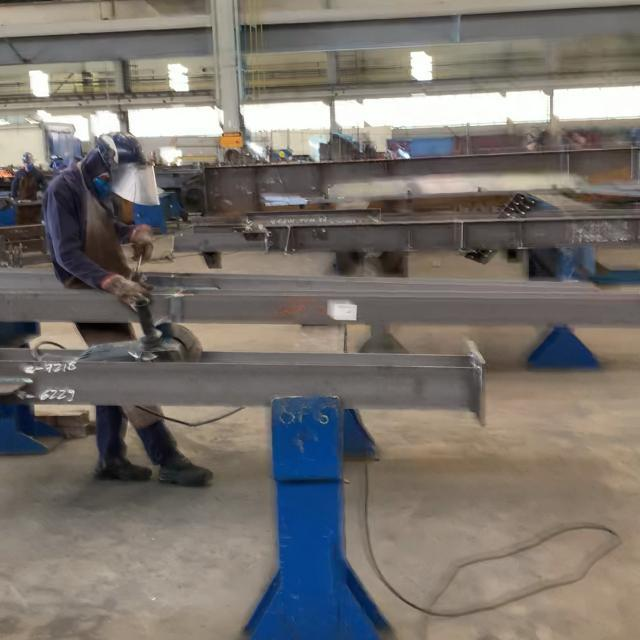face-shield: (108, 160, 161, 206)
glove: (101, 274, 154, 317), (130, 222, 154, 265)
helmet: (95, 130, 147, 161)
person: (43, 131, 162, 316)
safety-shoe: (93, 457, 155, 485), (157, 462, 215, 488)
